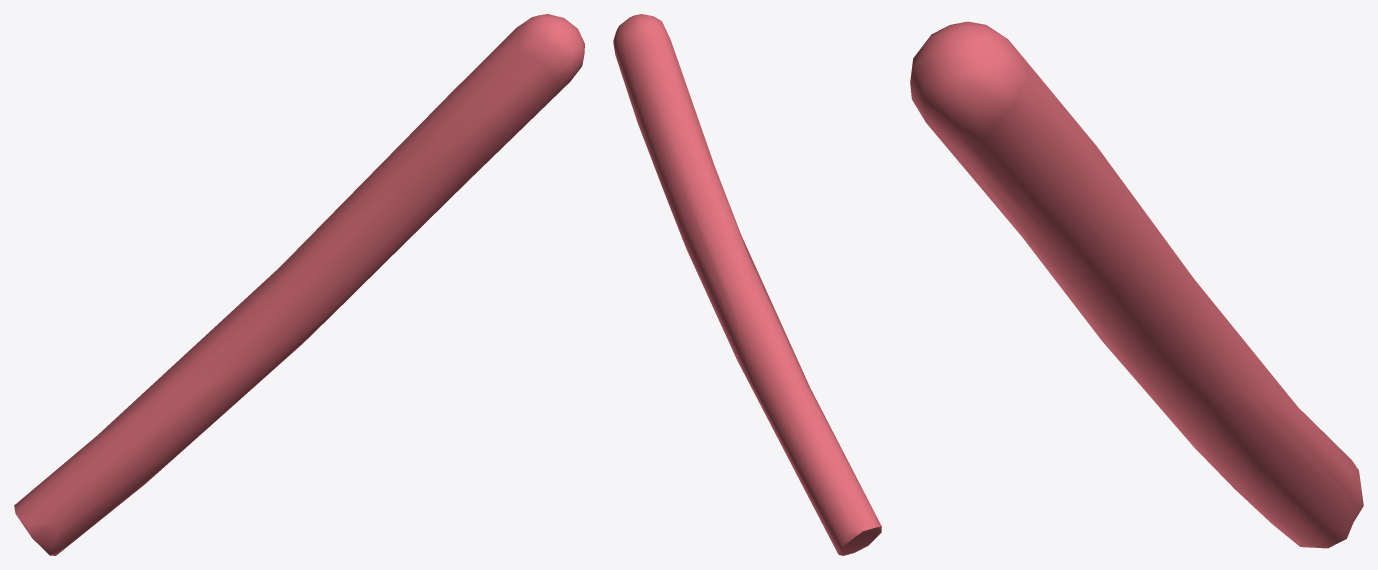
The model's file is fma66499_fj3439.glb.
3 views of the same model, side by side, from view 1: azimuth 30°, elevation 25°; view 2: azimuth 150°, elevation 25°; view 3: azimuth 270°, elevation 25° (orthographic). The views are drawn at different scales.
Visible parts, largest first — view 1: FMA66499_FJ3439; view 2: FMA66499_FJ3439; view 3: FMA66499_FJ3439.
Part boxes in pixels (x1,y1,x2,y2): FMA66499_FJ3439: (14,14,584,555); FMA66499_FJ3439: (613,14,881,555); FMA66499_FJ3439: (910,21,1363,548).
Bounding box in the file's own units: 0.0259 × 0.0289 × 0.0147.
